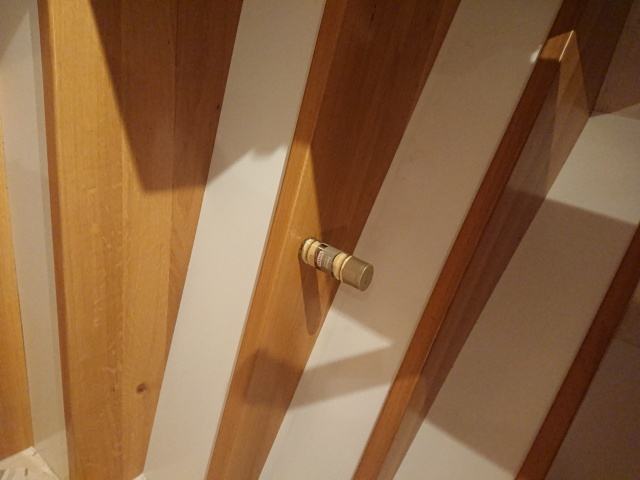Kotanyi Garlic Granules 70g: (296, 235, 376, 294)
